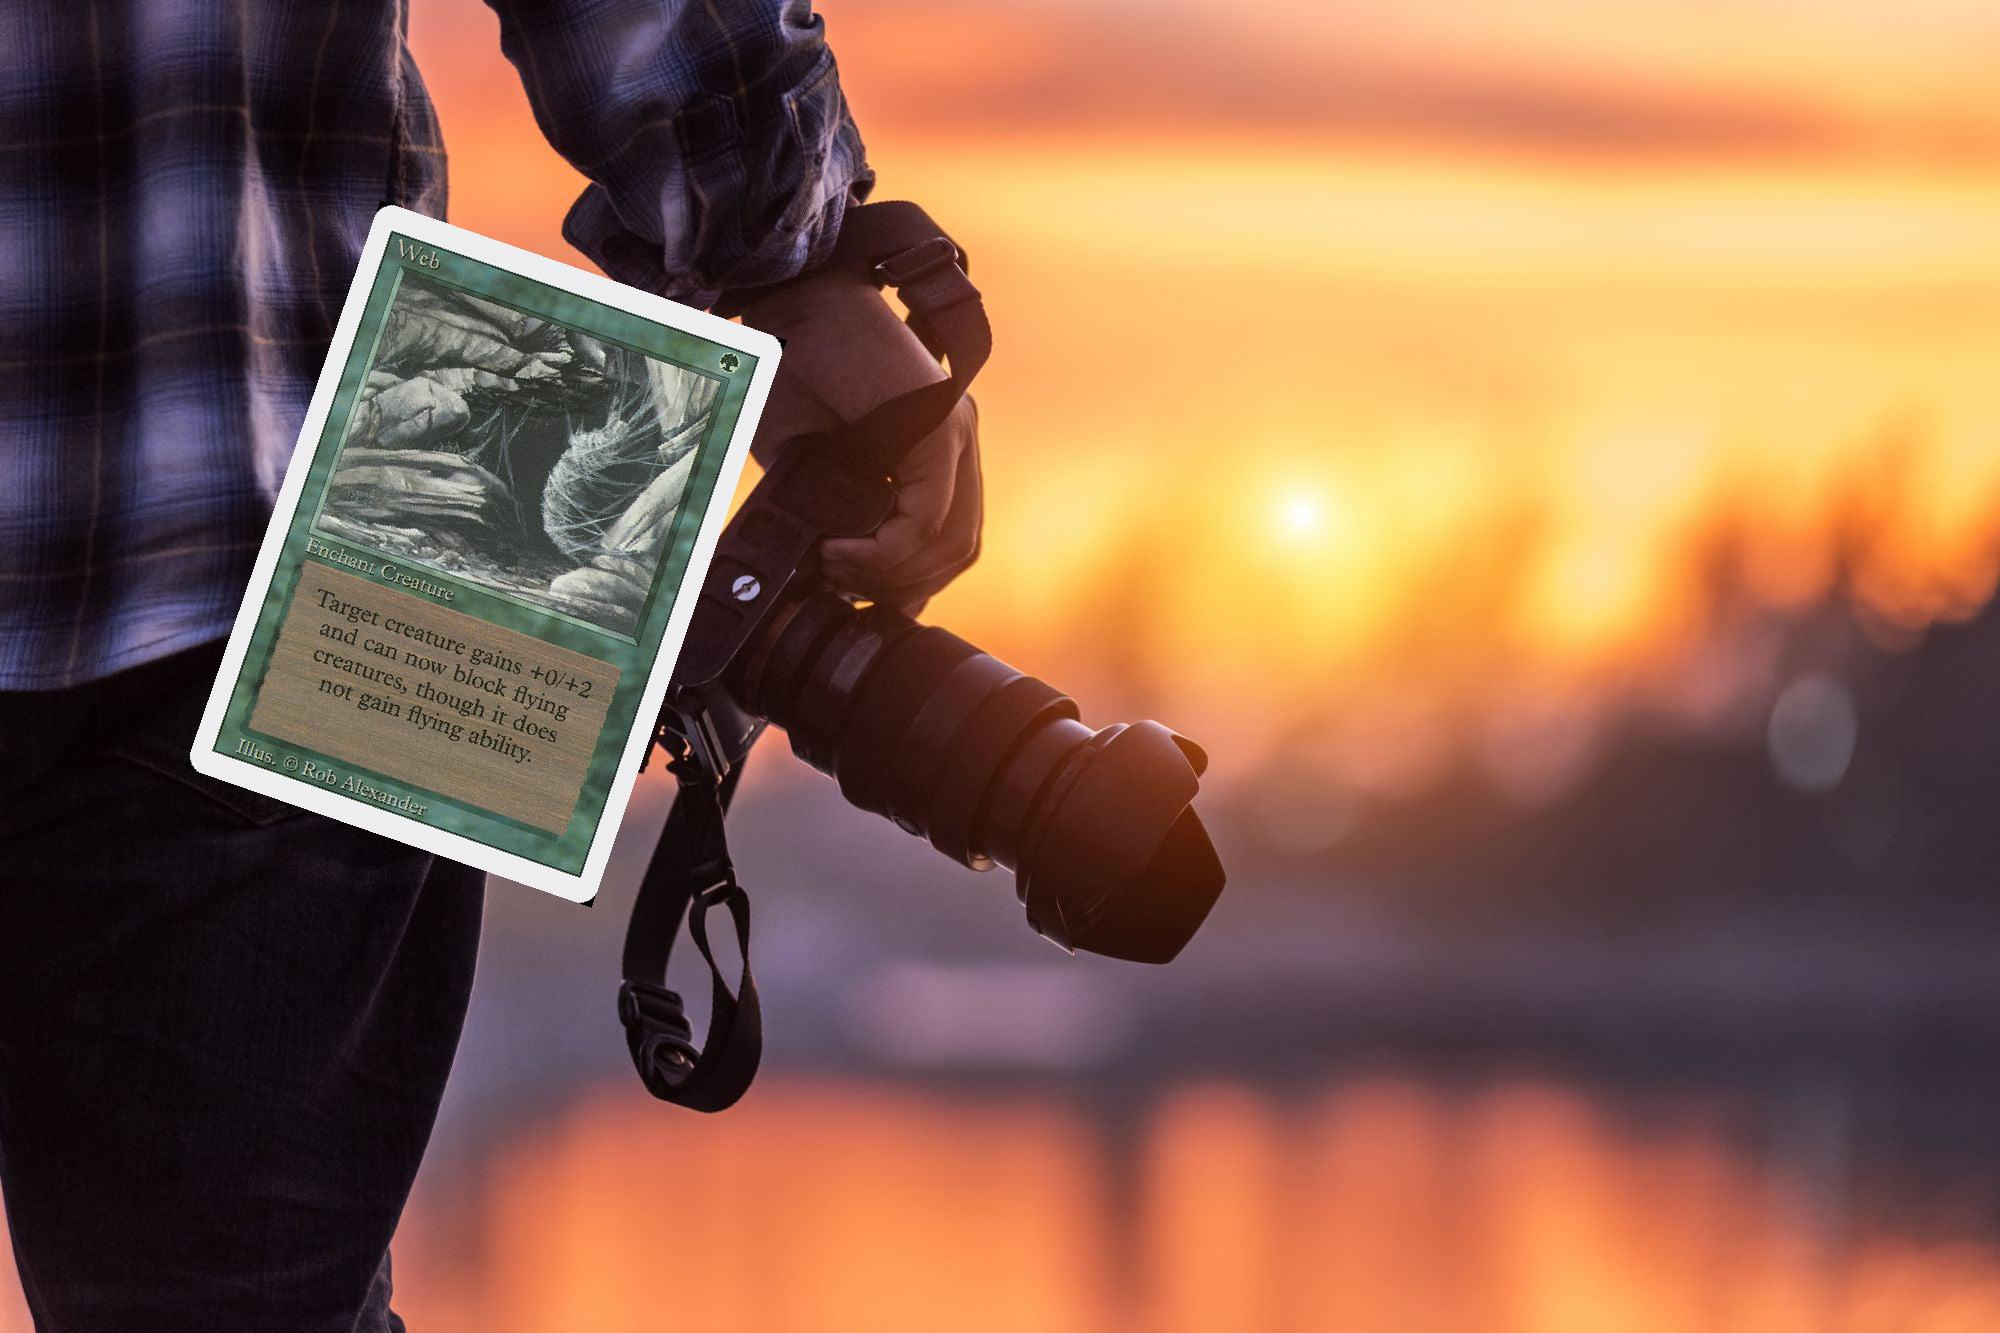mtgCard: (184, 199, 787, 908)
